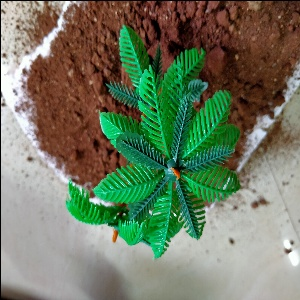plant: (63, 34, 242, 281)
